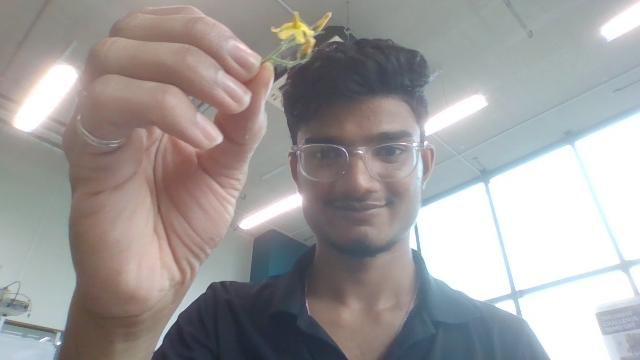Anthesis: (270, 10, 317, 45), (298, 34, 317, 61), (311, 11, 332, 33)
